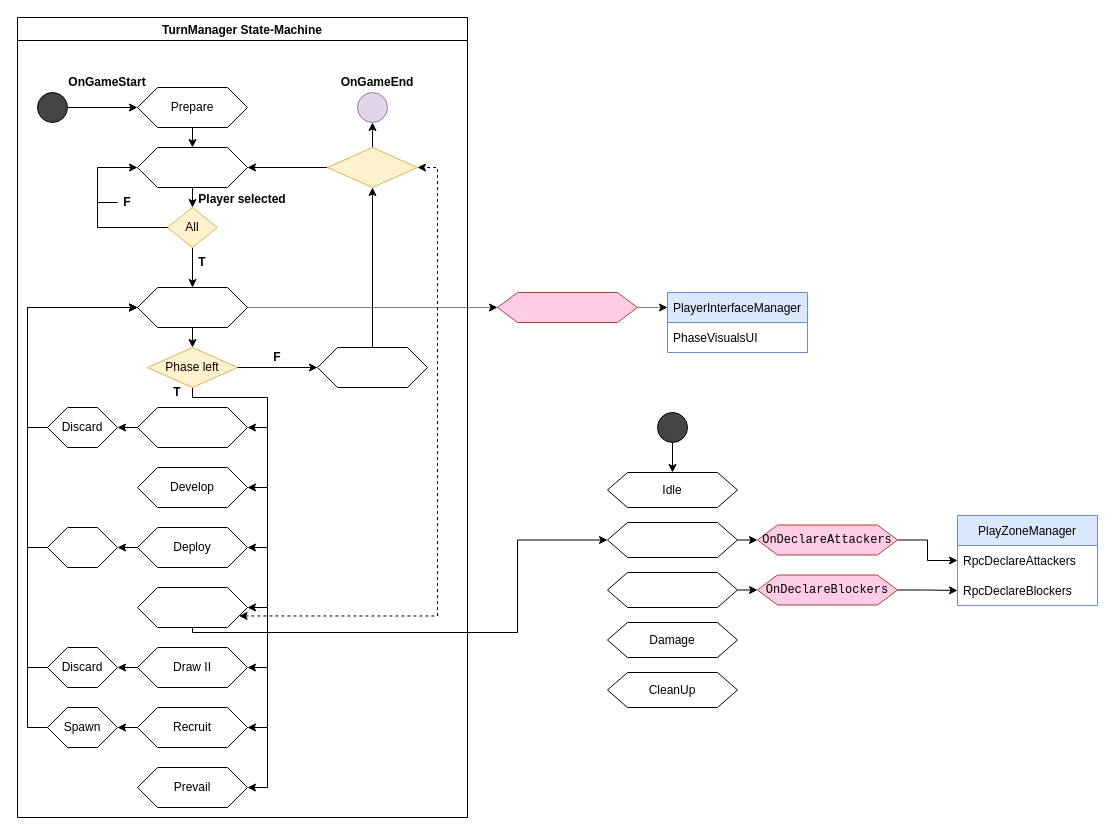
The diagram is 1115 pixels wide and 835 high, and some of its shapes have lost their labels. The shapes that lost their labels are listed below. From the top down, each one's centre as x and y in pixels, then its label:
the point at 192,167: PhaseSelection
the point at 372,167: Victory
the point at 192,307: NextPhase
the point at 567,307: OnPhaseChanged
the point at 372,367: Clean Up
the point at 192,427: Draw I
the point at 82,547: Play
the point at 672,540: Attackers
the point at 192,607: Combat
the point at 672,590: Blockers
